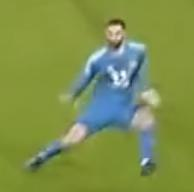goalkeeper: (8, 6, 170, 181)
